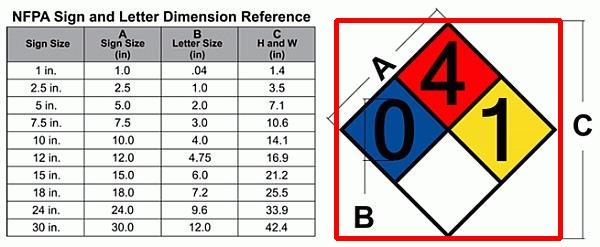nfpa: (336, 20, 560, 238)
